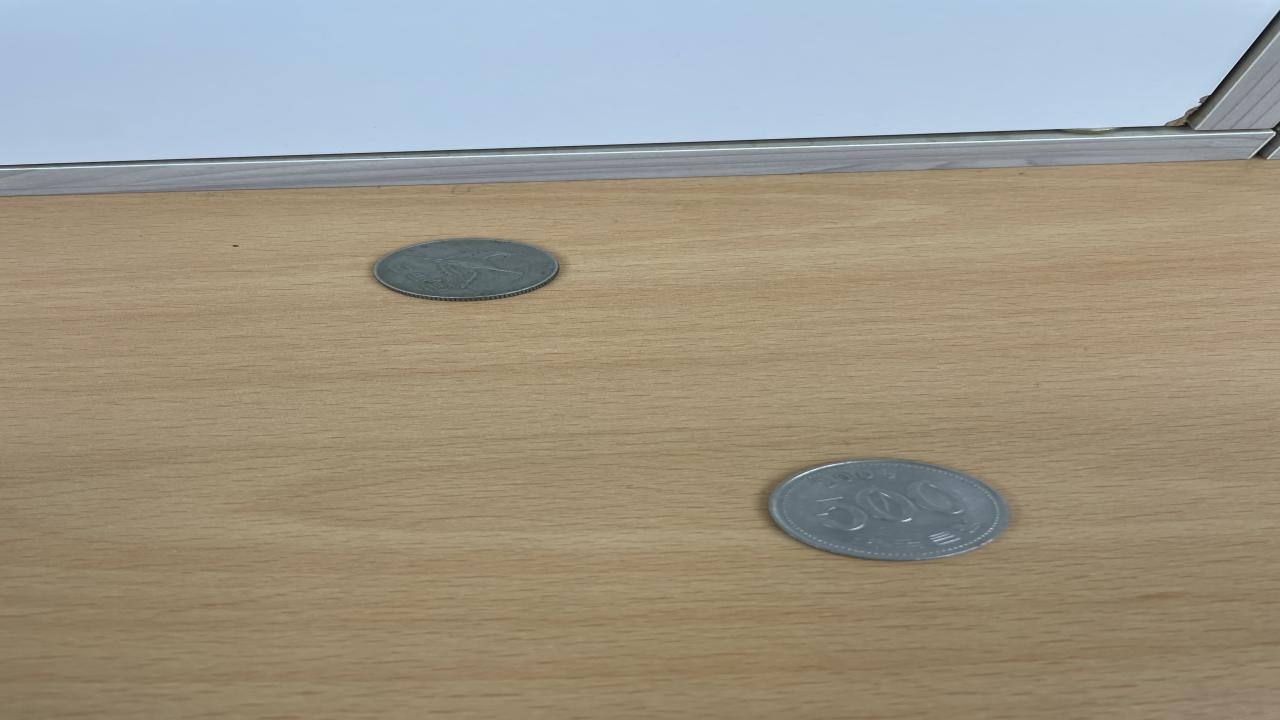coin: (765, 459, 1007, 560), (371, 237, 563, 301)
